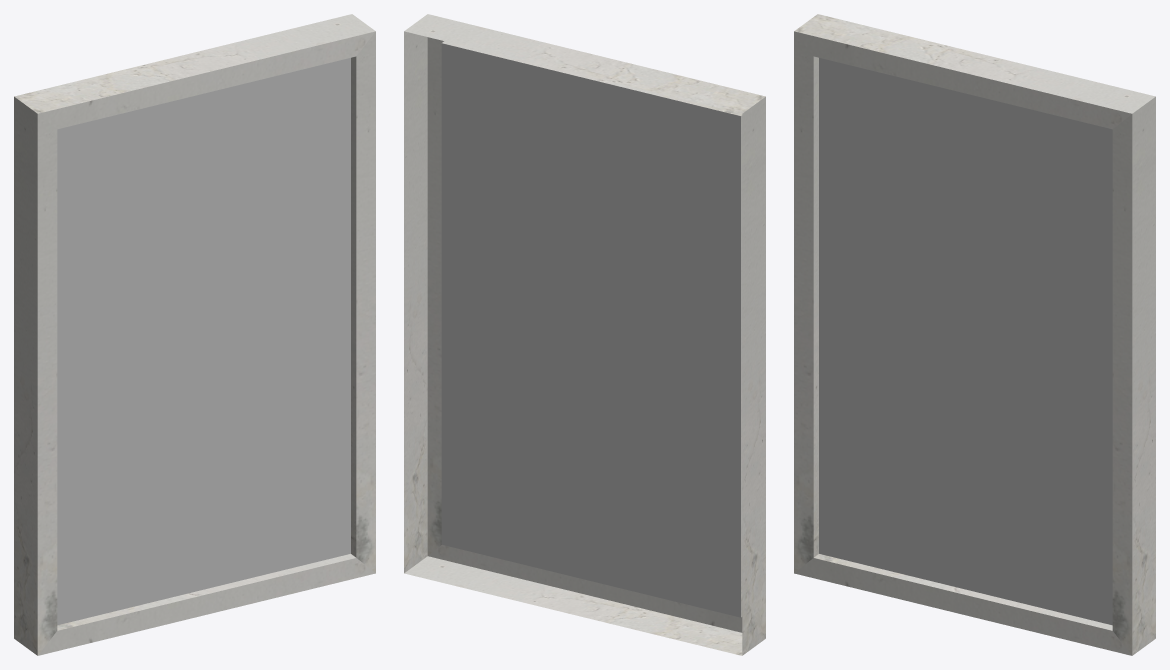
Rendered from window 5.FBX.
3 renders of one model, left to right at view 1: azimuth 30°, elevation 25°; view 2: azimuth 150°, elevation 25°; view 3: azimuth 330°, elevation 25°, orthographic.
Visible parts, largest first — view 1: window003; view 2: window003; view 3: window003.
Boxes of the visible parts, <box> form: window003: <box>14,14,375,655</box>; window003: <box>404,14,765,655</box>; window003: <box>794,14,1155,655</box>.
Bounding box in the file's own units: 1.39 × 2.13 × 0.1688.
